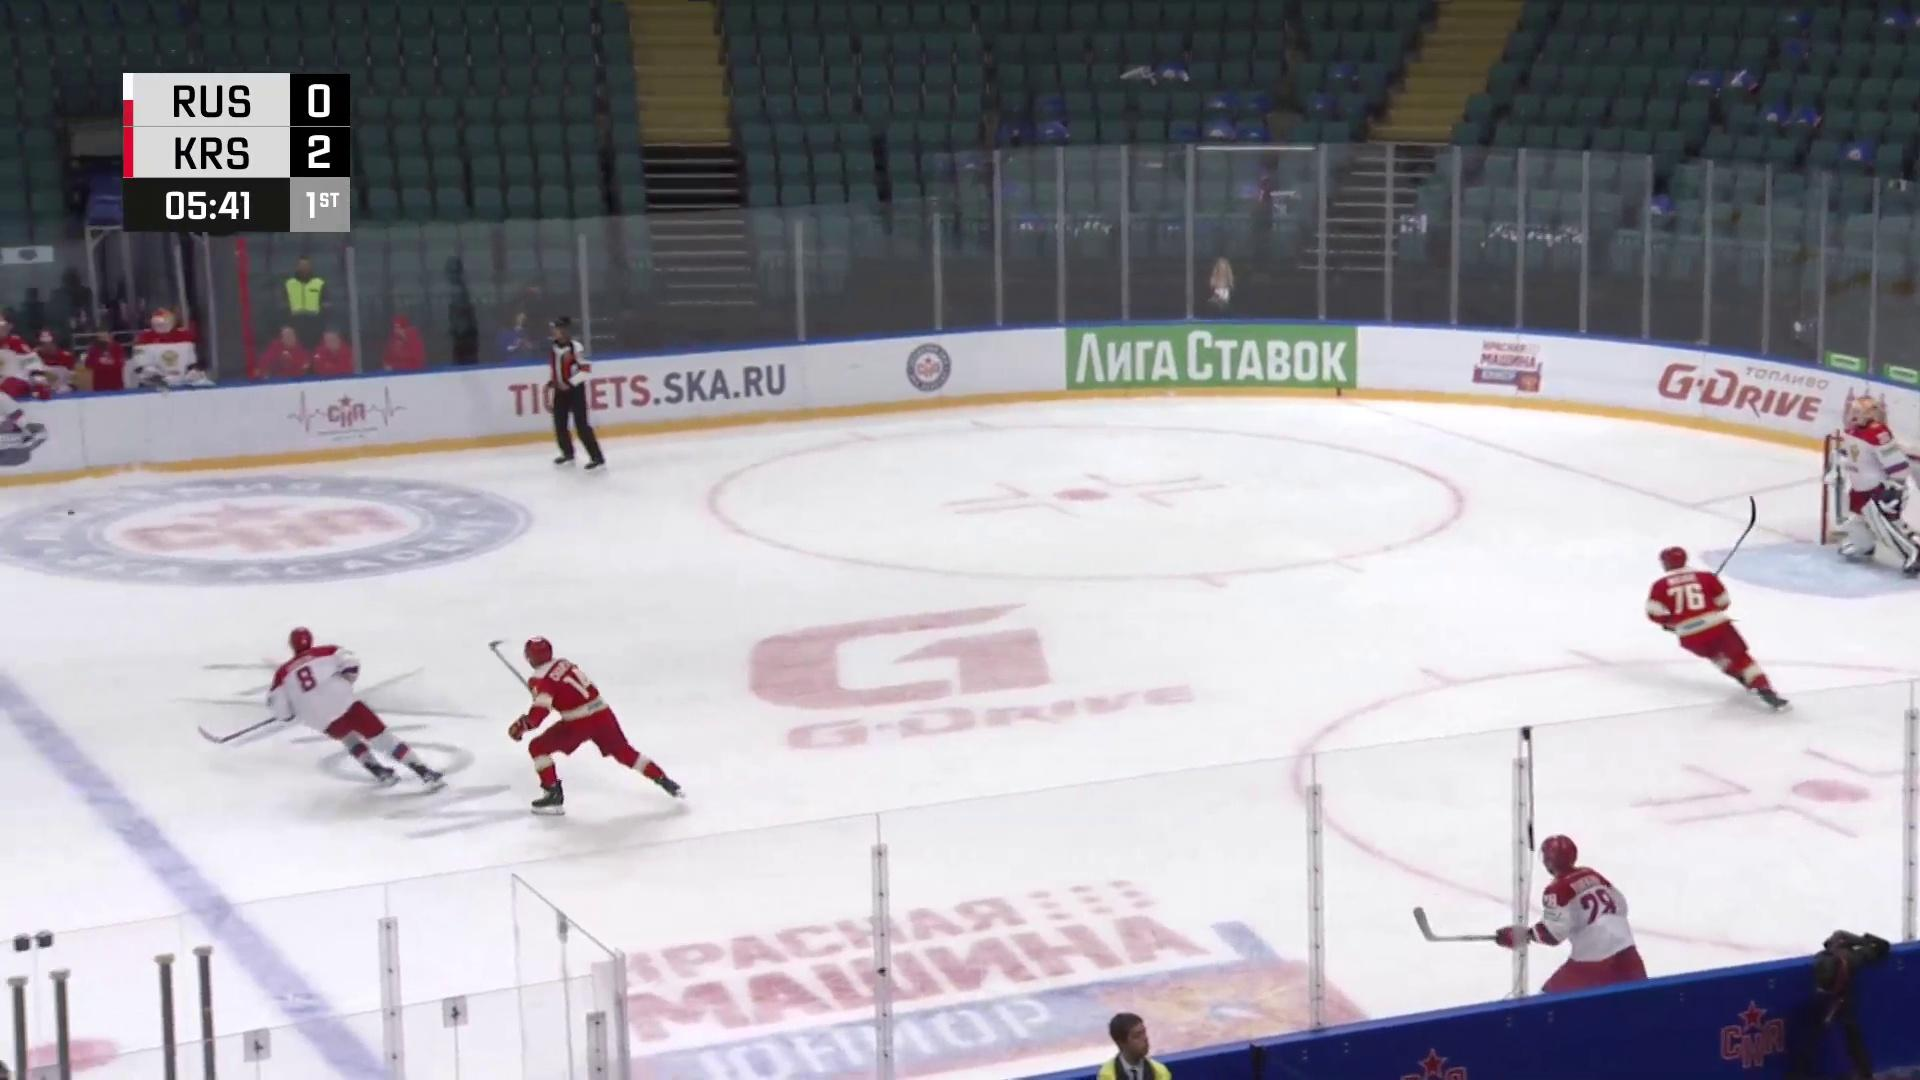ball: (63, 508, 76, 517)
